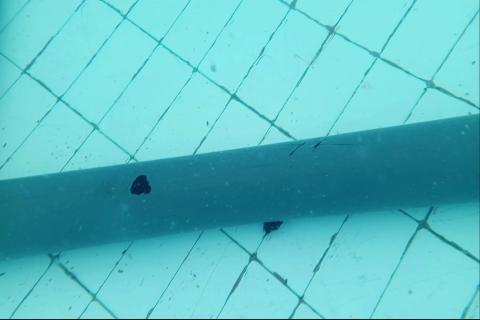kebocoran: (129, 174, 151, 196)
keretakan: (278, 137, 353, 155)
